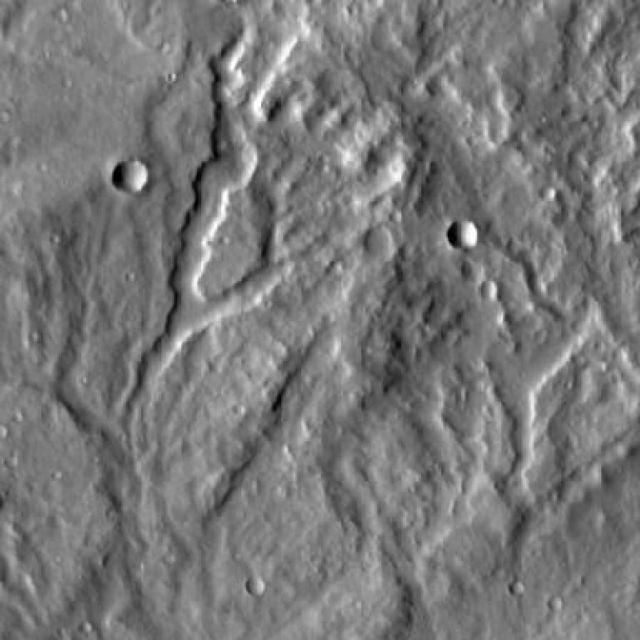crater: (110, 156, 147, 193), (448, 217, 478, 248), (363, 226, 392, 254), (243, 578, 260, 596), (481, 283, 499, 300)
